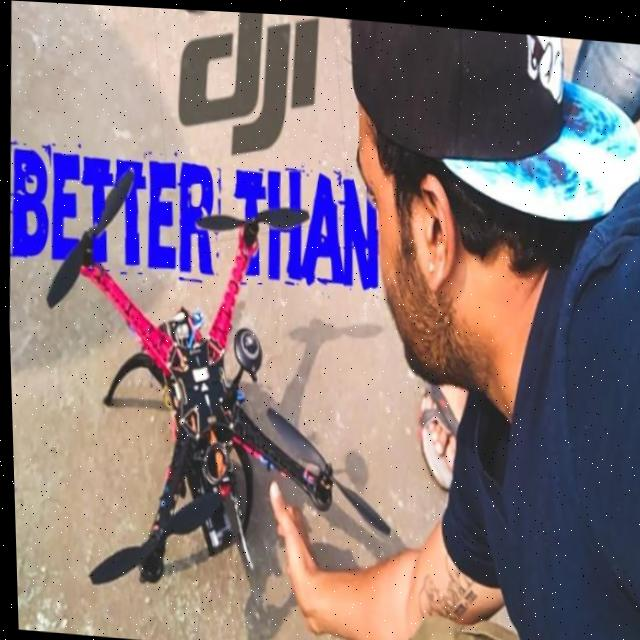drones: (36, 125, 397, 622)
